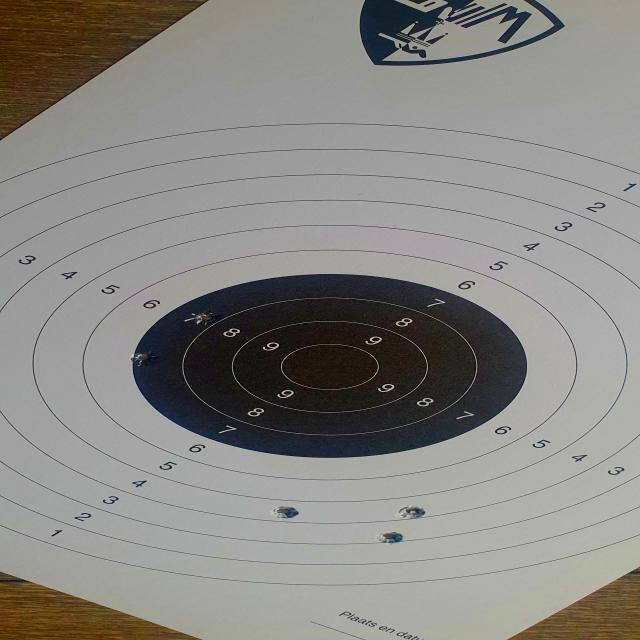3: (377, 532, 404, 544)
4: (395, 505, 428, 519), (272, 507, 299, 519)
7: (130, 350, 160, 367)
8: (192, 311, 221, 326)
Target: (0, 122, 640, 588)
black_contour: (130, 274, 527, 458)
